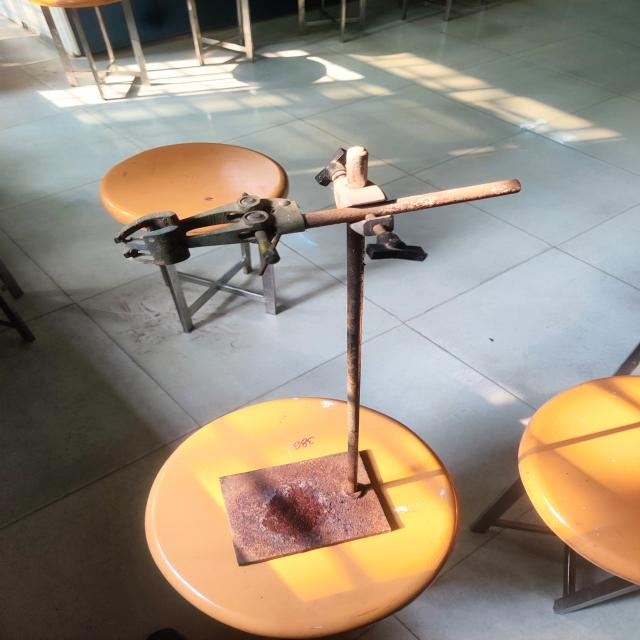Burette_Stands: (94, 138, 514, 584)
